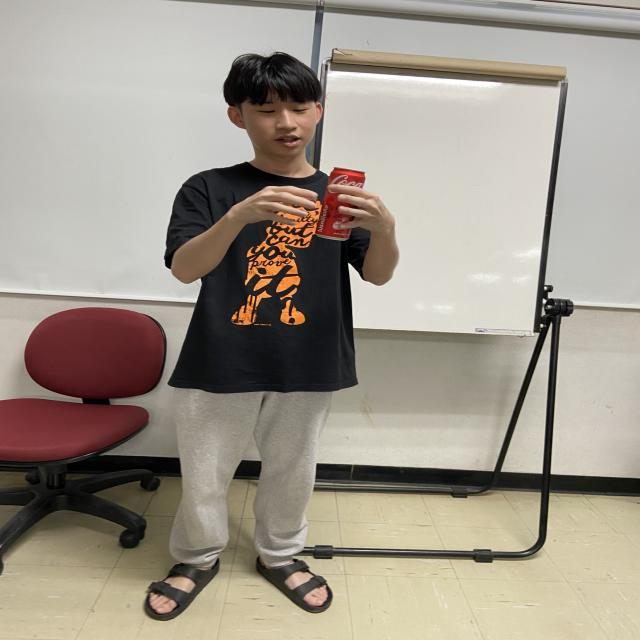can: (316, 167, 368, 242)
